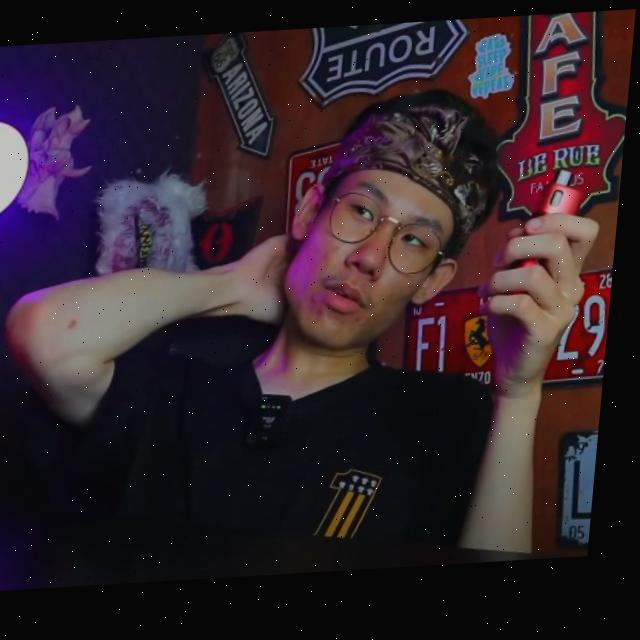vape: (537, 173, 589, 223)
